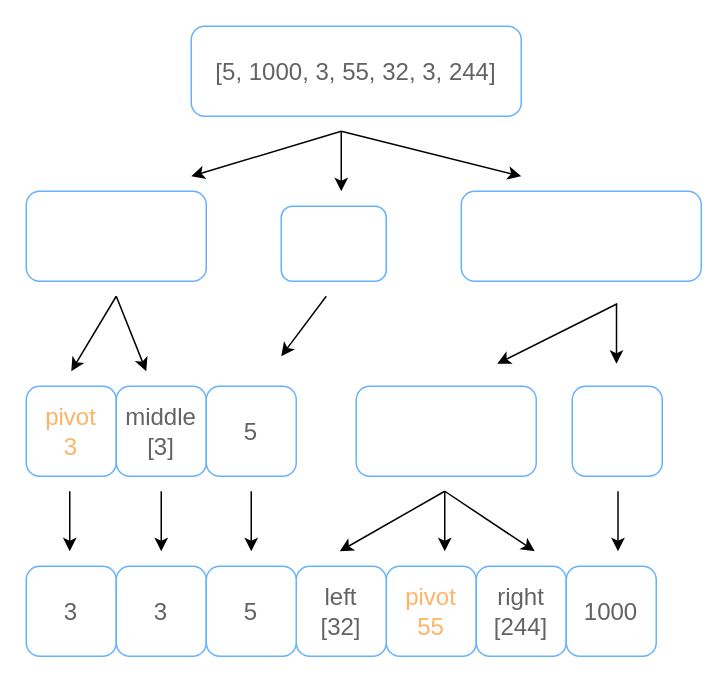
The diagram is 728 pixels wide and 683 high, and some of its shapes have lost their labels. The shapes that lost their labels are listed below. From the top down, each one's centre as x and y in pixels, then its label:
At point 115,235: "left [3,3]".
At point 333,243: "pivot 5".
At point 580,235: "right [1000,55,32,244]".
At point 445,430: "left [55,32,244]".
At point 616,430: "pivot 1000".
